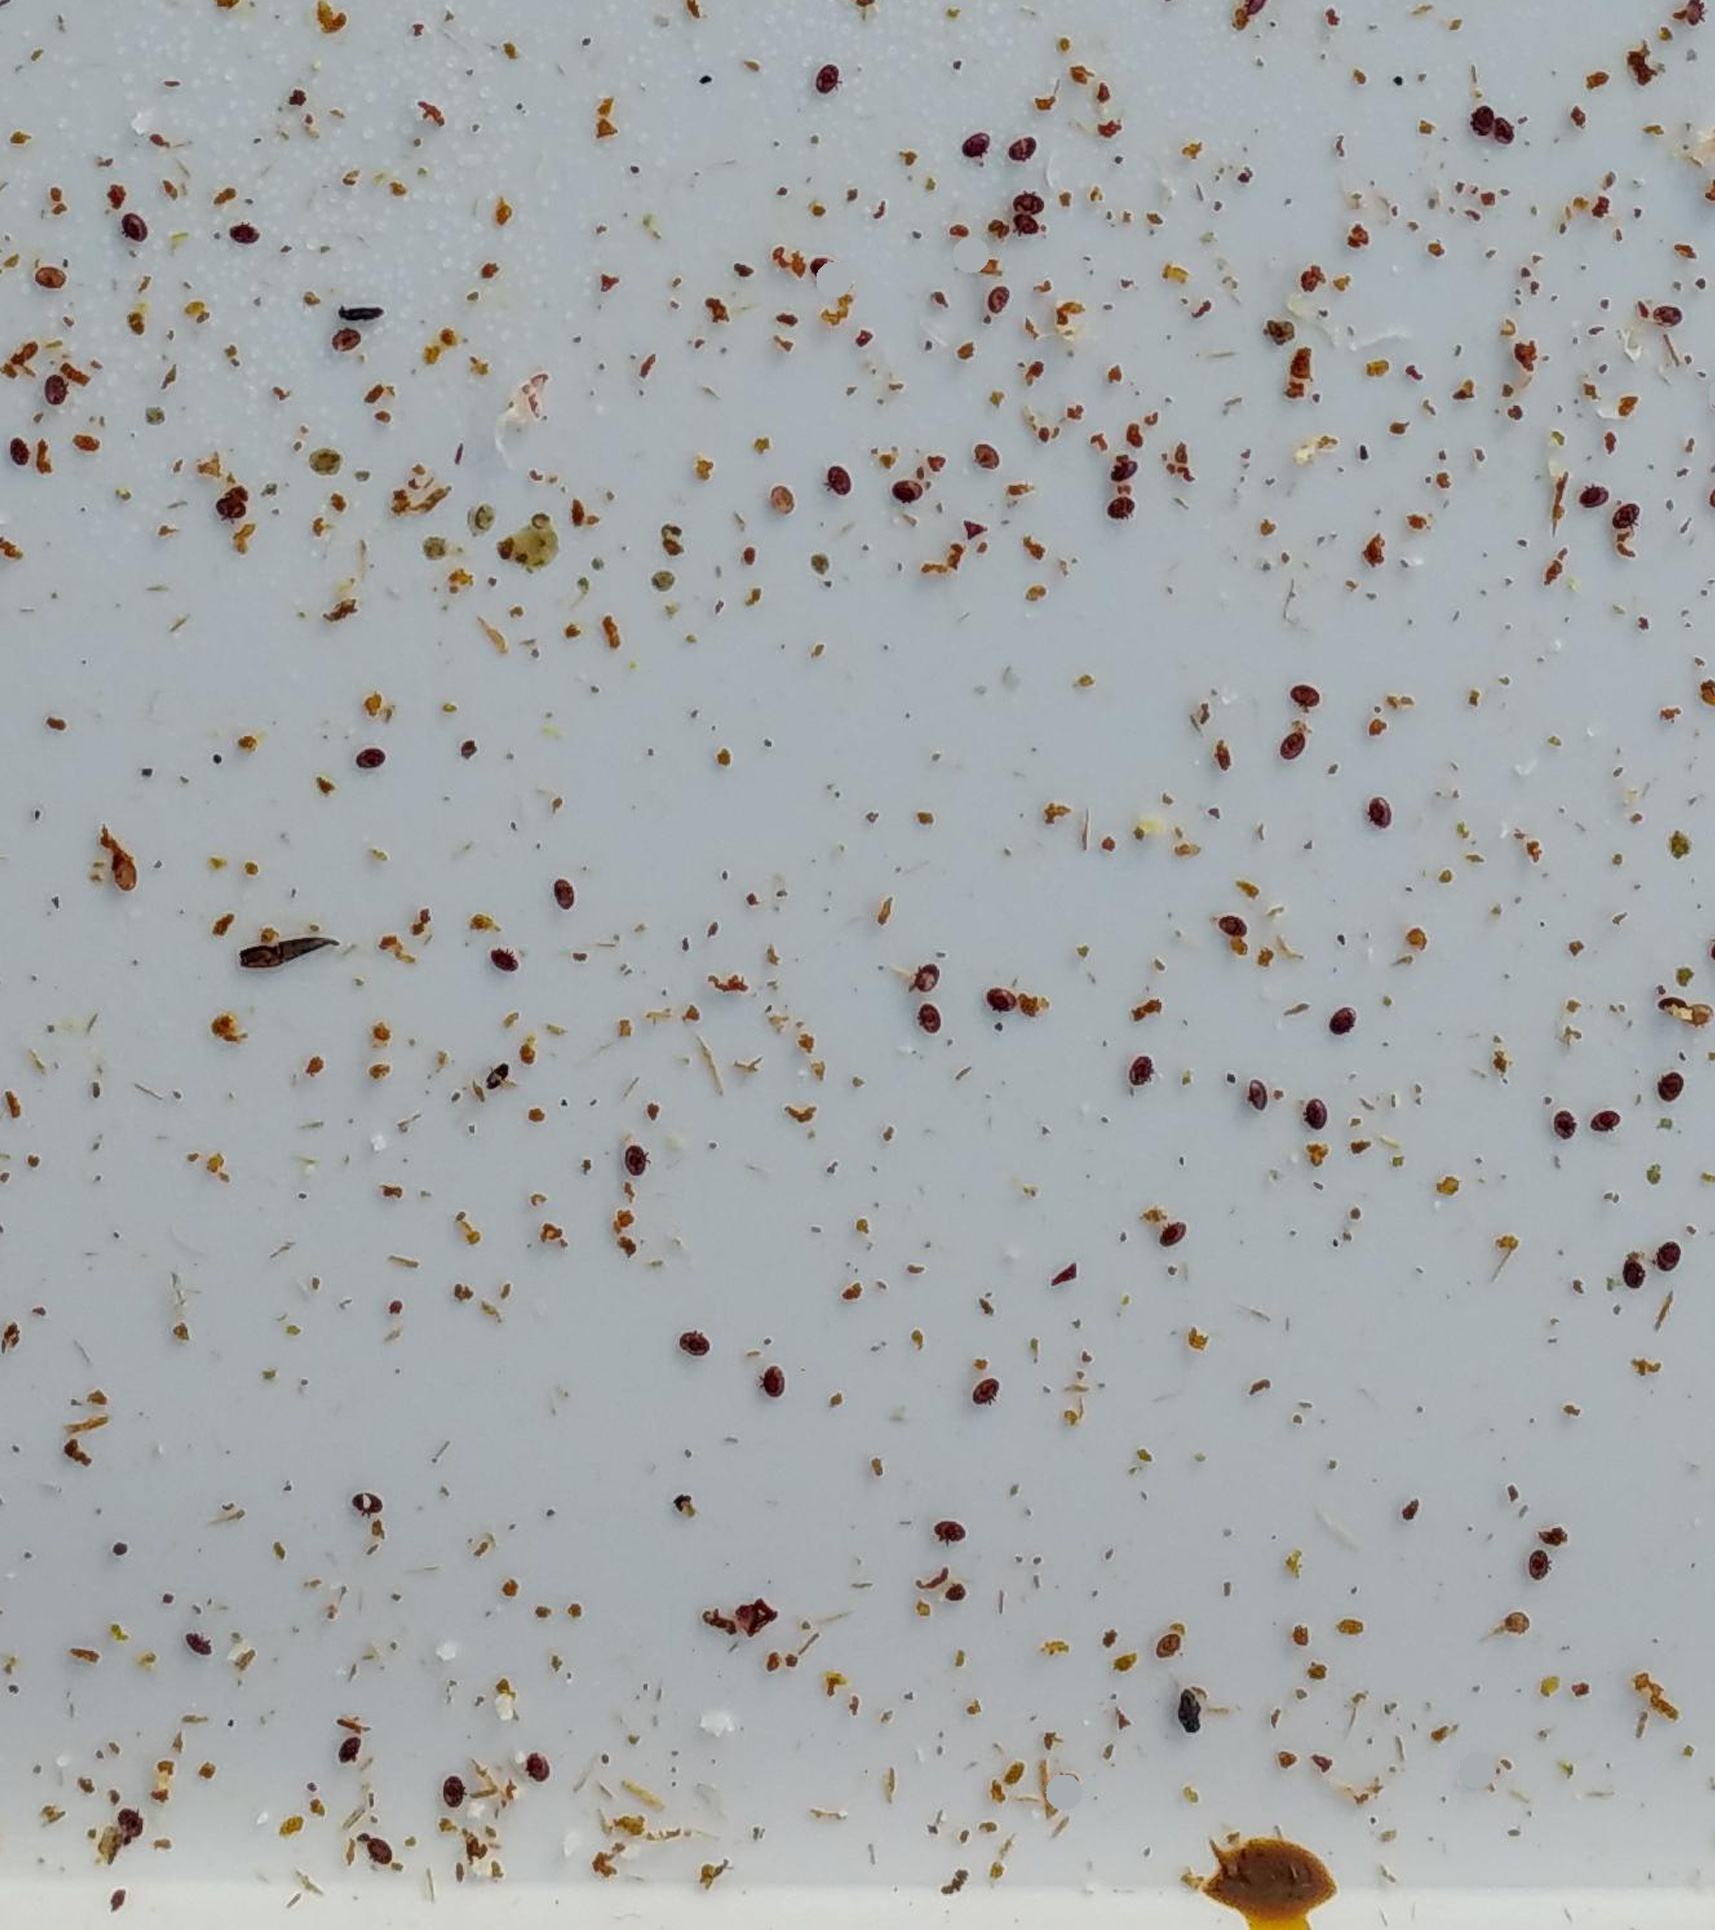Varroa: (1002, 205, 1045, 248), (1006, 197, 1045, 233), (982, 281, 1016, 318), (957, 129, 992, 164), (1473, 108, 1506, 144), (1290, 674, 1323, 708), (3, 439, 35, 472), (930, 1515, 963, 1546), (353, 738, 384, 771), (766, 483, 800, 515), (1003, 136, 1035, 169), (970, 439, 1002, 470), (1275, 732, 1306, 763), (1549, 1107, 1581, 1139), (987, 988, 1016, 1021), (40, 374, 70, 407), (184, 1627, 214, 1659), (811, 58, 841, 89), (910, 965, 940, 996), (1652, 1069, 1682, 1101), (329, 324, 359, 356), (1655, 1241, 1685, 1271), (1606, 502, 1636, 531), (1015, 175, 1045, 205), (548, 876, 576, 905), (353, 1488, 381, 1518), (621, 1145, 649, 1175), (761, 1367, 790, 1397), (367, 1836, 396, 1865), (1597, 1107, 1626, 1137), (685, 1323, 713, 1352), (1616, 1260, 1644, 1289), (915, 1006, 944, 1035), (1525, 1549, 1553, 1577), (816, 472, 844, 500), (1299, 1099, 1328, 1127), (1126, 1053, 1154, 1081), (1362, 798, 1391, 826), (1328, 1005, 1356, 1033), (1051, 1760, 1079, 1788), (892, 473, 920, 502), (1107, 490, 1136, 518), (219, 493, 247, 521), (809, 250, 838, 278), (1109, 458, 1137, 487), (1159, 1215, 1185, 1245), (35, 257, 61, 286), (119, 214, 146, 242), (525, 1755, 551, 1783), (970, 1371, 997, 1399), (233, 217, 262, 243), (1245, 1084, 1271, 1111), (1583, 475, 1609, 502), (339, 1736, 364, 1764), (1222, 919, 1247, 947), (444, 1774, 470, 1799), (126, 1806, 151, 1832), (1654, 306, 1679, 331), (495, 942, 520, 967), (828, 78, 851, 93)
